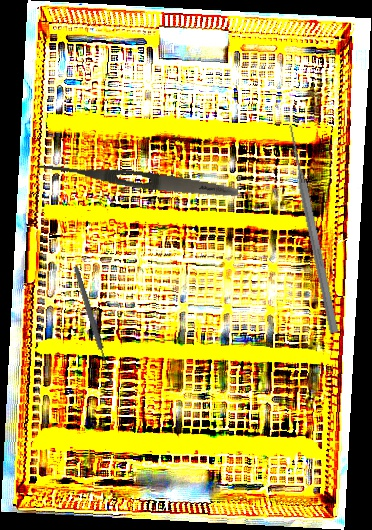Dressing Forceps: (36, 158, 240, 202)
Pusher: (283, 122, 342, 335)
Surgical Spoon: (71, 264, 116, 387)
